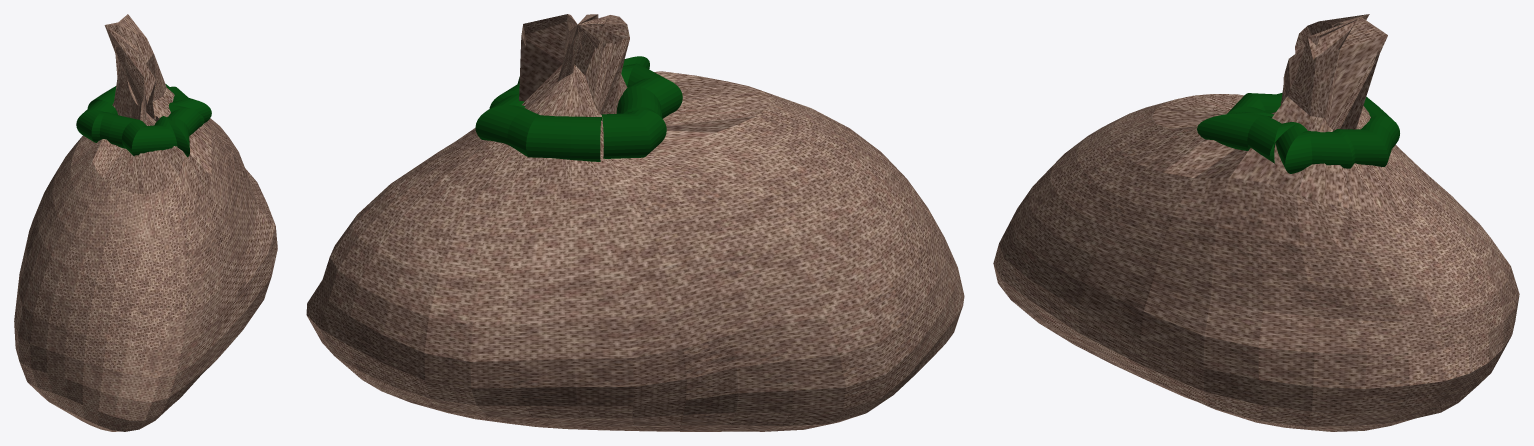
Rendered from saquinho de dinheiro.fbx.
3 views of the same model, side by side, from view 1: azimuth 30°, elevation 25°; view 2: azimuth 150°, elevation 25°; view 3: azimuth 270°, elevation 25° (orthographic). The views are drawn at different scales.
Visible parts, largest first — view 1: Sphere, Cube; view 2: Sphere, Cube; view 3: Sphere, Cube.
Boxes of the visible parts, left/top/right/bottom form: Sphere: left=14, top=14, right=277, bottom=431; Cube: left=76, top=84, right=211, bottom=156; Sphere: left=306, top=14, right=964, bottom=431; Cube: left=475, top=56, right=682, bottom=161; Sphere: left=993, top=14, right=1519, bottom=431; Cube: left=1197, top=92, right=1399, bottom=173.
Bounding box in the file's own units: 302 × 286 × 344.
2 materials, 1 textured.
